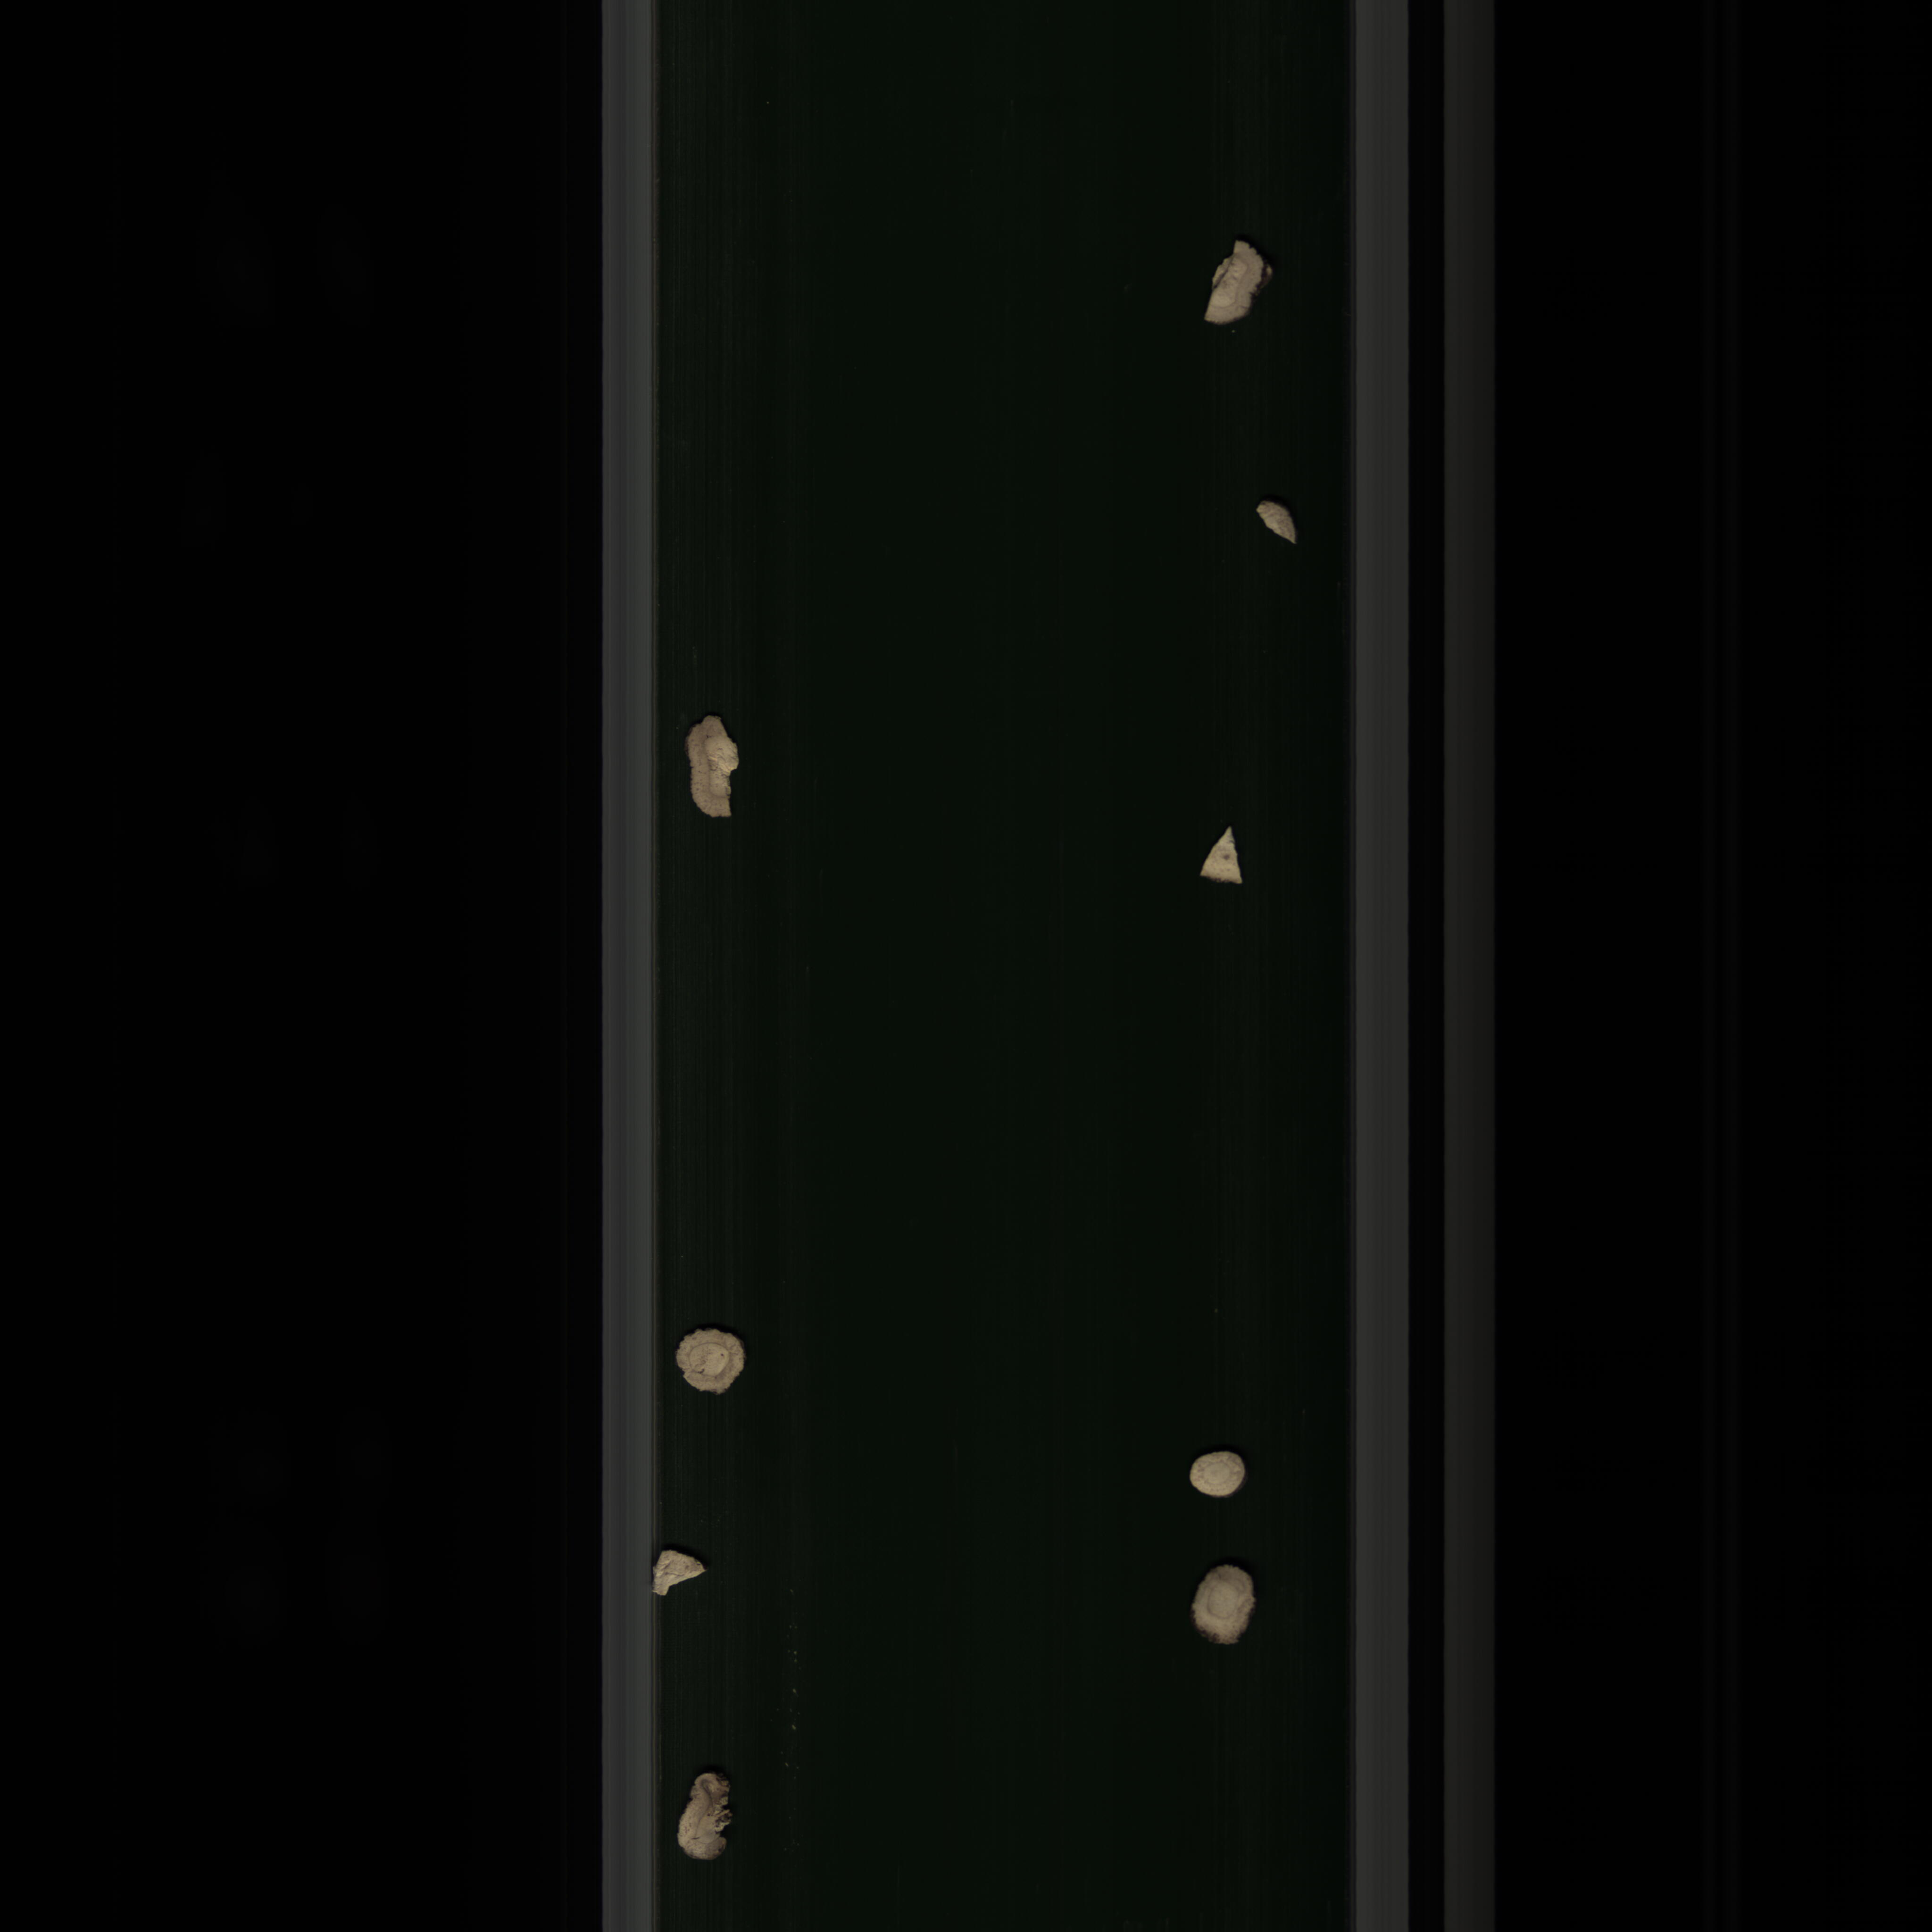debris: (1196, 235, 1286, 356), (671, 709, 752, 837), (1194, 817, 1261, 909), (640, 1543, 715, 1603), (1249, 499, 1304, 556)
distortion: (1169, 1552, 1270, 1663), (671, 1762, 755, 1877)
